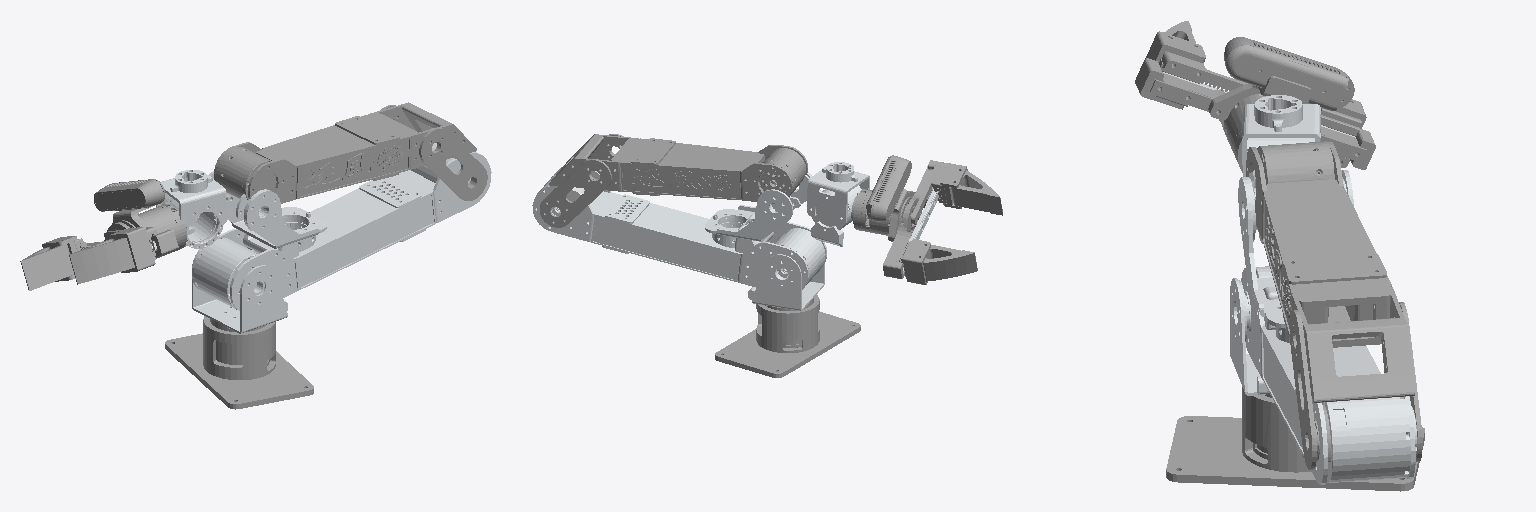
robot.urdf — sukinee_urdf:
<?xml version='1.0' encoding='utf-8'?>
<robot name="sukinee_urdf">
  <link name="world" />
  <joint name="world_to_base_link" type="fixed">
    <parent link="world" />
    <child link="base_link" />
    <origin xyz="0 0 0.0" rpy="0 0 0" />
  </joint>
  <link name="base_link">
    <inertial>
      <origin xyz="1.5245E-07 1.2552E-07 0.013027" rpy="0 0 0" />
      <mass value="0.54275" />
      <inertia ixx="0.00058688" ixy="-2.8116E-05" ixz="1.5174E-09" iyy="0.00028904" iyz="1.2494E-09" izz="0.00073167" />
    </inertial>
    <visual>
      <origin xyz="0 0 0" rpy="0 0 0" />
      <geometry>
        <mesh filename="package://sukinee_urdf/meshes/urdf_camera_gripper/base_link.STL" />
      </geometry>
      <material name="">
        <color rgba="0.69804 0.69804 0.69804 1" />
      </material>
    </visual>
    <collision>
      <origin xyz="0 0 0" rpy="0 0 0" />
      <geometry>
        <mesh filename="package://sukinee_urdf/meshes/urdf_camera_gripper/base_link.STL" />
      </geometry>
    </collision>
  </link>
  <link name="Link1">
    <inertial>
      <origin xyz="-0.0053771 -0.0011385 0.038552" rpy="0 0 0" />
      <mass value="0.37961" />
      <inertia ixx="0.00019575" ixy="6.0614E-06" ixz="2.553E-06" iyy="0.00016059" iyz="4.2618E-07" izz="0.00019169" />
    </inertial>
    <visual>
      <origin xyz="0 0 0" rpy="0 0 0" />
      <geometry>
        <mesh filename="package://sukinee_urdf/meshes/urdf_camera_gripper/Link1.STL" />
      </geometry>
      <material name="">
        <color rgba="0.89804 0.91765 0.92941 1" />
      </material>
    </visual>
    <collision>
      <origin xyz="0 0 0" rpy="0 0 0" />
      <geometry>
        <mesh filename="package://sukinee_urdf/meshes/urdf_camera_gripper/Link1.STL" />
      </geometry>
    </collision>
  </link>
  <joint name="Joint1" type="continuous">
    <origin xyz="0 0 0.0514" rpy="0 0 0" />
    <parent link="base_link" />
    <child link="Link1" />
    <axis xyz="0 0 -1" />
    <limit effort="5" velocity="5" />
  </joint>
  <link name="Link2">
    <inertial>
      <origin xyz="0.19861 -0.019415 -0.027112" rpy="0 0 0" />
      <mass value="0.63265" />
      <inertia ixx="0.00023073" ixy="0.00021283" ixz="-2.0428E-06" iyy="0.0020677" iyz="-3.5072E-07" izz="0.0021179" />
    </inertial>
    <visual>
      <origin xyz="0 0 0" rpy="0 0 0" />
      <geometry>
        <mesh filename="package://sukinee_urdf/meshes/urdf_camera_gripper/Link2.STL" />
      </geometry>
      <material name="">
        <color rgba="0.89804 0.91765 0.92941 1" />
      </material>
    </visual>
    <collision>
      <origin xyz="0 0 0" rpy="0 0 0" />
      <geometry>
        <mesh filename="package://sukinee_urdf/meshes/urdf_camera_gripper/Link2.STL" />
      </geometry>
    </collision>
  </link>
  <joint name="Joint2" type="revolute">
    <origin xyz="-0.010939 0.025949 0.0425" rpy="-1.5708 -0.00097565 0.16603" />
    <parent link="Link1" />
    <child link="Link2" />
    <axis xyz="0 0 -1" />
    <limit lower="-0.3" upper="2.6" effort="5" velocity="5" />
  </joint>
  <link name="Link3">
    <inertial>
      <origin xyz="-0.16918 -0.04234 -0.027922" rpy="0 0 0" />
      <mass value="0.50027" />
      <inertia ixx="0.00012507" ixy="-9.8555E-06" ixz="-6.0131E-07" iyy="0.0010627" iyz="-6.7669E-07" izz="0.0011221" />
    </inertial>
    <visual>
      <origin xyz="0 0 0" rpy="0 0 0" />
      <geometry>
        <mesh filename="package://sukinee_urdf/meshes/urdf_camera_gripper/Link3.STL" />
      </geometry>
      <material name="">
        <color rgba="0.69804 0.69804 0.69804 1" />
      </material>
    </visual>
    <collision>
      <origin xyz="0 0 0" rpy="0 0 0" />
      <geometry>
        <mesh filename="package://sukinee_urdf/meshes/urdf_camera_gripper/Link3.STL" />
      </geometry>
    </collision>
  </link>
  <joint name="Joint3" type="revolute">
    <origin xyz="0.26466 -0.031009 0" rpy="0 0 0" />
    <parent link="Link2" />
    <child link="Link3" />
    <axis xyz="0 0 -1" />
    <limit lower="-2.36" upper="0.3" effort="5" velocity="5" />
  </joint>
  <link name="Link4">
    <inertial>
      <origin xyz="-0.052455 -0.054524 -0.025682" rpy="0 0 0" />
      <mass value="0.27416" />
      <inertia ixx="0.00012695" ixy="-2.6532E-05" ixz="2.2452E-07" iyy="0.00018079" iyz="1.7982E-08" izz="0.00012597" />
    </inertial>
    <visual>
      <origin xyz="0 0 0" rpy="0 0 0" />
      <geometry>
        <mesh filename="package://sukinee_urdf/meshes/urdf_camera_gripper/Link4.STL" />
      </geometry>
      <material name="">
        <color rgba="0.89804 0.91765 0.92941 1" />
      </material>
    </visual>
    <collision>
      <origin xyz="0 0 0" rpy="0 0 0" />
      <geometry>
        <mesh filename="package://sukinee_urdf/meshes/urdf_camera_gripper/Link4.STL" />
      </geometry>
    </collision>
  </link>
  <joint name="Joint4" type="revolute">
    <origin xyz="-0.25553 -0.046044 -0.0039" rpy="0 0 0" />
    <parent link="Link3" />
    <child link="Link4" />
    <axis xyz="0 0 -1" />
    <limit lower="-0.8" upper="0.8" effort="1.6" velocity="5" />
  </joint>
  <link name="Link5">
    <inertial>
      <origin xyz="-0.00069753 -0.0032664 0.040879" rpy="0 0 0" />
      <mass value="0.23438" />
      <inertia ixx="6.5833E-05" ixy="4.682E-06" ixz="2.603E-07" iyy="8.781E-05" iyz="1.4416E-06" izz="7.0008E-05" />
    </inertial>
    <visual>
      <origin xyz="0 0 0" rpy="0 0 0" />
      <geometry>
        <mesh filename="package://sukinee_urdf/meshes/urdf_camera_gripper/Link5.STL" />
      </geometry>
      <material name="">
        <color rgba="0.89804 0.91765 0.92941 1" />
      </material>
    </visual>
    <collision>
      <origin xyz="0 0 0" rpy="0 0 0" />
      <geometry>
        <mesh filename="package://sukinee_urdf/meshes/urdf_camera_gripper/Link5.STL" />
      </geometry>
    </collision>
  </link>
  <joint name="Joint5" type="revolute">
    <origin xyz="-0.063304 -0.043146 -0.0245" rpy="1.5708 1.3765 3.112" />
    <parent link="Link4" />
    <child link="Link5" />
    <axis xyz="0 0 -1" />
    <limit lower="-0.8" upper="0.8" effort="1.6" velocity="5" />
  </joint>
  <link name="Link6">
    <inertial>
      <origin xyz="0.0024889 -0.0057192 0.037515" rpy="0 0 0" />
      <mass value="0.25842" />
      <inertia ixx="6.3275E-05" ixy="-2.4218E-05" ixz="-5.9557E-07" iyy="0.00010755" iyz="-4.046E-07" izz="0.00014859" />
    </inertial>
    <visual>
      <origin xyz="0 0 0" rpy="0 0 0" />
      <geometry>
        <mesh filename="package://sukinee_urdf/meshes/urdf_camera_gripper/Link6.STL" />
      </geometry>
      <material name="">
        <color rgba="0.69804 0.69804 0.69804 1" />
      </material>
    </visual>
    <collision>
      <origin xyz="0 0 0" rpy="0 0 0" />
      <geometry>
        <mesh filename="package://sukinee_urdf/meshes/urdf_camera_gripper/Link6.STL" />
      </geometry>
    </collision>
  </link>
  <joint name="Joint6" type="revolute">
    <origin xyz="0.003658 0.019663 0.045" rpy="1.5708 0.0055167 2.9577" />
    <parent link="Link5" />
    <child link="Link6" />
    <axis xyz="0 0 -1" />
    <limit lower="-2.1" upper="2.1" effort="1.6" velocity="5" />
  </joint>
  <link name="Link8">
    <inertial>
      <origin xyz="-1.3531E-16 -8.0214E-15 0.0030448" rpy="0 0 0" />
      <mass value="0.019614" />
      <inertia ixx="6.0759E-06" ixy="-1.3306E-05" ixz="7.577E-22" iyy="3.0348E-05" iyz="2.1085E-22" izz="3.6283E-05" />
    </inertial>
    <visual>
      <origin xyz="0 0 0" rpy="0 0 0" />
      <geometry>
        <mesh filename="package://sukinee_urdf/meshes/urdf_camera_gripper/Link8.STL" />
      </geometry>
      <material name="">
        <color rgba="0.89804 0.91765 0.92941 1" />
      </material>
    </visual>
    <collision>
      <origin xyz="0 0 0" rpy="0 0 0" />
      <geometry>
        <mesh filename="package://sukinee_urdf/meshes/urdf_camera_gripper/Link8.STL" />
      </geometry>
    </collision>
  </link>
  <joint name="Joint8" type="fixed">
    <origin xyz="1.7459E-05 0.00014898 0.075" rpy="0 0 0" />
    <parent link="Link6" />
    <child link="Link8" />
    <axis xyz="0 0 0" />
  </joint>
  <link name="Link7">
    <inertial>
      <origin xyz="1.993E-11 1.6042E-11 0.0062973" rpy="0 0 0" />
      <mass value="0.0027847" />
      <inertia ixx="1.8957E-07" ixy="-2.0185E-16" ixz="4.8123E-17" iyy="1.8957E-07" iyz="-5.3402E-17" izz="3.3854E-07" />
    </inertial>
    <visual>
      <origin xyz="0 0 0" rpy="0 0 0" />
      <geometry>
        <mesh filename="package://sukinee_urdf/meshes/urdf_camera_gripper/Link7.STL" />
      </geometry>
      <material name="">
        <color rgba="0.69804 0.69804 0.69804 1" />
      </material>
    </visual>
    <collision>
      <origin xyz="0 0 0" rpy="0 0 0" />
      <geometry>
        <mesh filename="package://sukinee_urdf/meshes/urdf_camera_gripper/Link7.STL" />
      </geometry>
    </collision>
  </link>
  <joint name="Joint7" type="revolute">
    <origin xyz="1.7459E-05 0.00014898 0.058" rpy="0 0 0" />
    <parent link="Link6" />
    <child link="Link7" />
    <axis xyz="0 0 -1" />
    <limit lower="0" upper="1.57" effort="1.6" velocity="5" />
  </joint>
  <link name="Link_r">
    <inertial>
      <origin xyz="0.0089236 0.0037835 -0.0070751" rpy="0 0 0" />
      <mass value="0.034938" />
      <inertia ixx="8.4376E-06" ixy="1.4671E-08" ixz="-6.1418E-07" iyy="9.0041E-06" iyz="-2.1554E-08" izz="5.2223E-06" />
    </inertial>
    <visual>
      <origin xyz="0 0 0" rpy="0 0 0" />
      <geometry>
        <mesh filename="package://sukinee_urdf/meshes/urdf_camera_gripper/Link_r.STL" />
      </geometry>
      <material name="">
        <color rgba="0.69804 0.69804 0.69804 1" />
      </material>
    </visual>
    <collision>
      <origin xyz="0 0 0" rpy="0 0 0" />
      <geometry>
        <mesh filename="package://sukinee_urdf/meshes/urdf_camera_gripper/Link_r.STL" />
      </geometry>
    </collision>
  </link>
  <joint name="right_finger" type="prismatic">
    <origin xyz="0.037984 0.016907 0.083123" rpy="1.5708 -1.5384 -1.1551" />
    <parent link="Link6" />
    <child link="Link_r" />
    <axis xyz="0 0 1" />
    <limit lower="0" upper="0.04" effort="1" velocity="0.02" />
    <mimic joint="Joint7" multiplier="0.025" offset="0" />
  </joint>
  <link name="Link_l">
    <inertial>
      <origin xyz="-0.0091526 -0.0032817 -0.0070751" rpy="0 0 0" />
      <mass value="0.034938" />
      <inertia ixx="8.4419E-06" ixy="5.116E-08" ixz="6.1429E-07" iyy="8.9999E-06" iyz="-1.8265E-08" izz="5.2223E-06" />
    </inertial>
    <visual>
      <origin xyz="0 0 0" rpy="0 0 0" />
      <geometry>
        <mesh filename="package://sukinee_urdf/meshes/urdf_camera_gripper/Link_l.STL" />
      </geometry>
      <material name="">
        <color rgba="0.69804 0.69804 0.69804 1" />
      </material>
    </visual>
    <collision>
      <origin xyz="0 0 0" rpy="0 0 0" />
      <geometry>
        <mesh filename="package://sukinee_urdf/meshes/urdf_camera_gripper/Link_l.STL" />
      </geometry>
    </collision>
  </link>
  <joint name="left_finger" type="prismatic">
    <origin xyz="-0.037949 -0.016609 0.083123" rpy="1.5708 1.5384 1.9865" />
    <parent link="Link6" />
    <child link="Link_l" />
    <axis xyz="0 0 1" />
    <limit lower="0" upper="0.04" effort="1" velocity="0.02" />
    <mimic joint="Joint7" multiplier="0.025" offset="0" />
  </joint>
  <link name="tool0" />
  <joint name="tool0_fixed_joint" type="fixed">
    <origin xyz="-0.000737 -0.000386 0.040000" rpy="0 0 0" />
    <parent link="Link8" />
    <child link="tool0" />
  </joint>
</robot>

--- What the picture shows (computed from the rendered views, not written in the file) ---
The picture shows the robot from 3 angles, left to right: view 1: azimuth 30°, elevation 25°; view 2: azimuth 150°, elevation 25°; view 3: azimuth 270°, elevation 25°; orthographic projection.
Robot: sukinee_urdf — 13 links, 12 joints (6 revolute, 1 continuous, 2 prismatic, 3 fixed); root link world; default pose: all joints at 0.
Visible links, largest first — view 1: Link3, Link2, base_link, Link1, Link6, Link4, Link5, Link_l, Link_r; view 2: Link3, Link2, base_link, Link6, Link1, Link5, Link4, Link_l, Link_r; view 3: Link3, Link2, Link6, base_link, Link5, Link_l, Link4, Link1, Link_r.
Boxes of the visible links, bbox=[...] form: Link3: bbox=[214, 102, 487, 208]; Link2: bbox=[192, 143, 491, 310]; base_link: bbox=[165, 316, 313, 409]; Link1: bbox=[192, 238, 287, 333]; Link6: bbox=[83, 179, 186, 258]; Link4: bbox=[209, 171, 326, 251]; Link5: bbox=[156, 170, 226, 248]; Link_l: bbox=[69, 227, 157, 284]; Link_r: bbox=[20, 236, 87, 290]; Link3: bbox=[540, 134, 807, 227]; Link2: bbox=[532, 167, 826, 289]; base_link: bbox=[715, 295, 860, 377]; Link6: bbox=[851, 155, 947, 278]; Link1: bbox=[748, 228, 825, 310]; Link5: bbox=[807, 162, 869, 246]; Link4: bbox=[705, 172, 811, 247]; Link_l: bbox=[911, 163, 1002, 223]; Link_r: bbox=[899, 239, 977, 284]; Link3: bbox=[1246, 141, 1422, 469]; Link2: bbox=[1241, 268, 1416, 484]; Link6: bbox=[1135, 37, 1375, 172]; base_link: bbox=[1166, 387, 1424, 491]; Link5: bbox=[1242, 95, 1320, 187]; Link_l: bbox=[1145, 21, 1247, 109]; Link4: bbox=[1238, 170, 1353, 342]; Link1: bbox=[1230, 266, 1272, 395]; Link_r: bbox=[1321, 99, 1366, 167].
Bounding box of the posed robot: 0.5275 × 0.1865 × 0.2403 m (x, y, z).
11 mesh visuals loaded from 11 distinct referenced files (11 binary STL).
